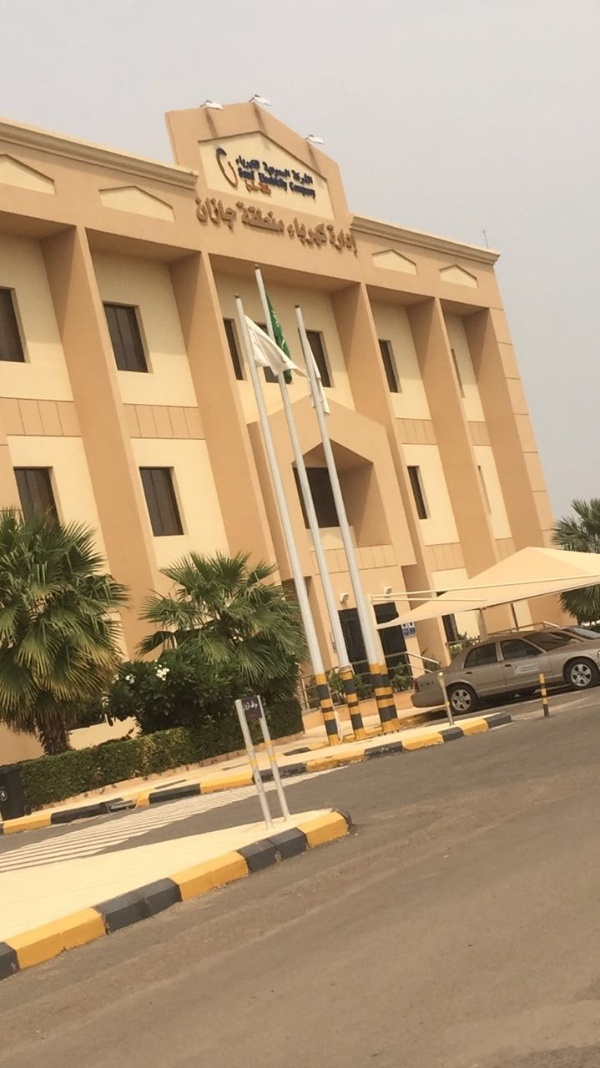text: (225, 195, 241, 232), (209, 195, 224, 232), (241, 199, 256, 234), (257, 199, 272, 234), (289, 216, 304, 251), (305, 216, 320, 251), (337, 224, 352, 257), (273, 199, 287, 234), (195, 195, 208, 232), (273, 160, 288, 182), (289, 180, 304, 200), (273, 172, 288, 192), (257, 177, 272, 197), (321, 216, 329, 251), (258, 172, 272, 192), (328, 224, 336, 257), (353, 224, 361, 257), (243, 177, 256, 197), (241, 154, 256, 171), (291, 168, 304, 187), (261, 160, 272, 182), (305, 180, 317, 200), (241, 167, 256, 180), (235, 199, 240, 234), (305, 168, 314, 187), (285, 216, 288, 251), (235, 154, 240, 171), (257, 154, 261, 171), (289, 160, 292, 182), (237, 167, 240, 180)
